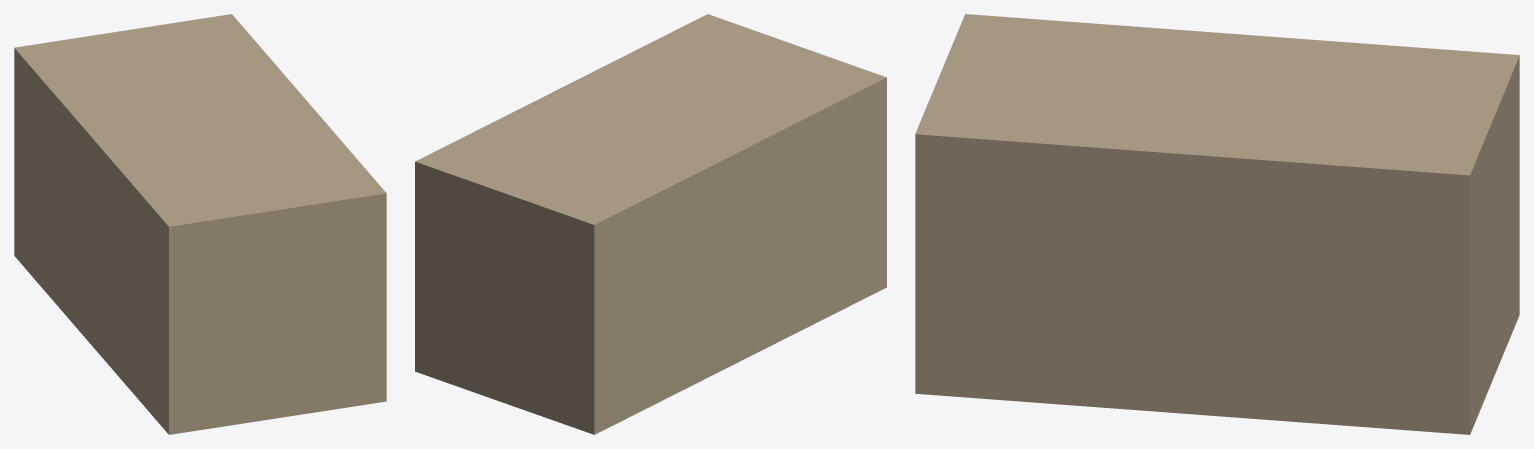
Rendered from bld_106466804.dae.
3 renders of one model, left to right at view 1: azimuth 30°, elevation 25°; view 2: azimuth 150°, elevation 25°; view 3: azimuth 270°, elevation 25°, orthographic. The views are drawn at different scales.
Parts seen in each view (by area): view 1: bld_106466804; view 2: bld_106466804; view 3: bld_106466804.
Boxes of the visible parts, bbox=[...] form: bld_106466804: bbox=[14, 14, 386, 434]; bld_106466804: bbox=[415, 14, 886, 434]; bld_106466804: bbox=[915, 14, 1519, 434].
Bounding box in the file's own units: 10.68 × 16.89 × 8.
